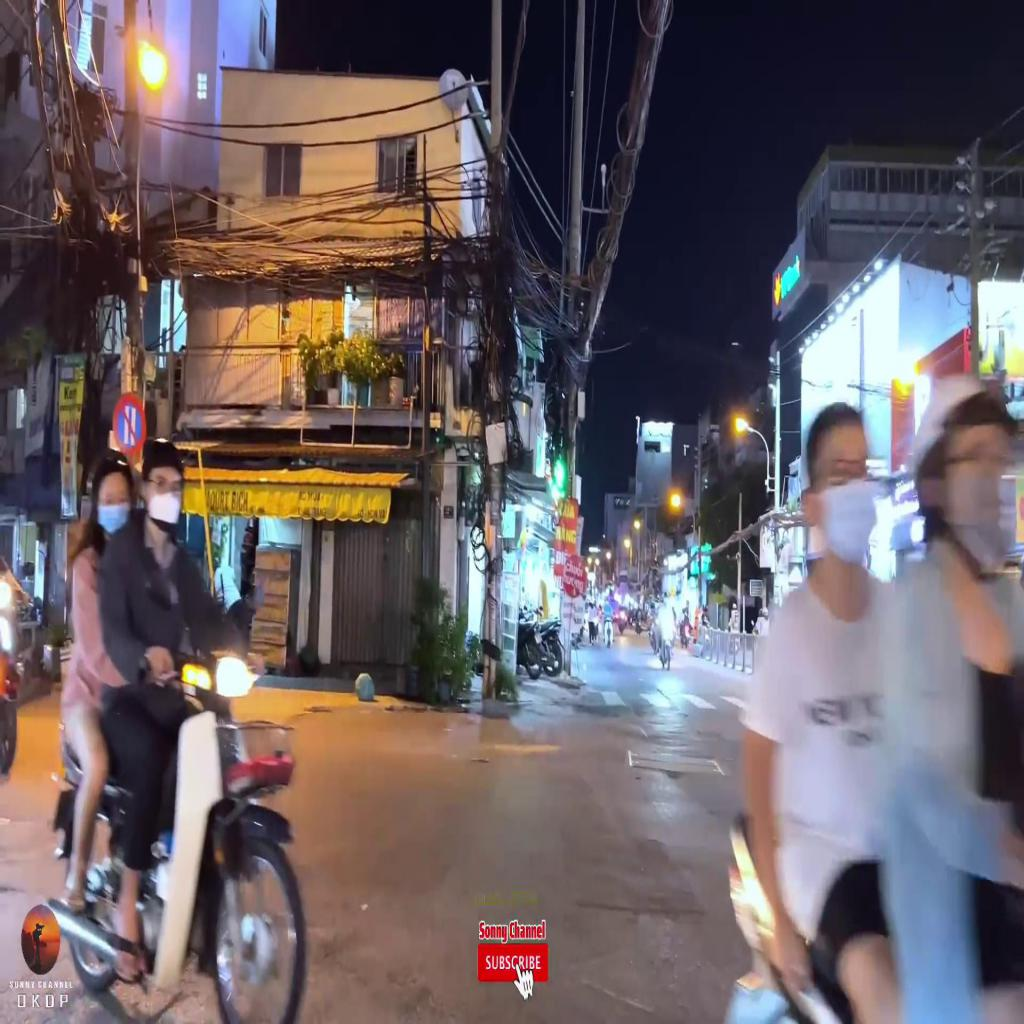cam_do_xe: (113, 394, 147, 455)
